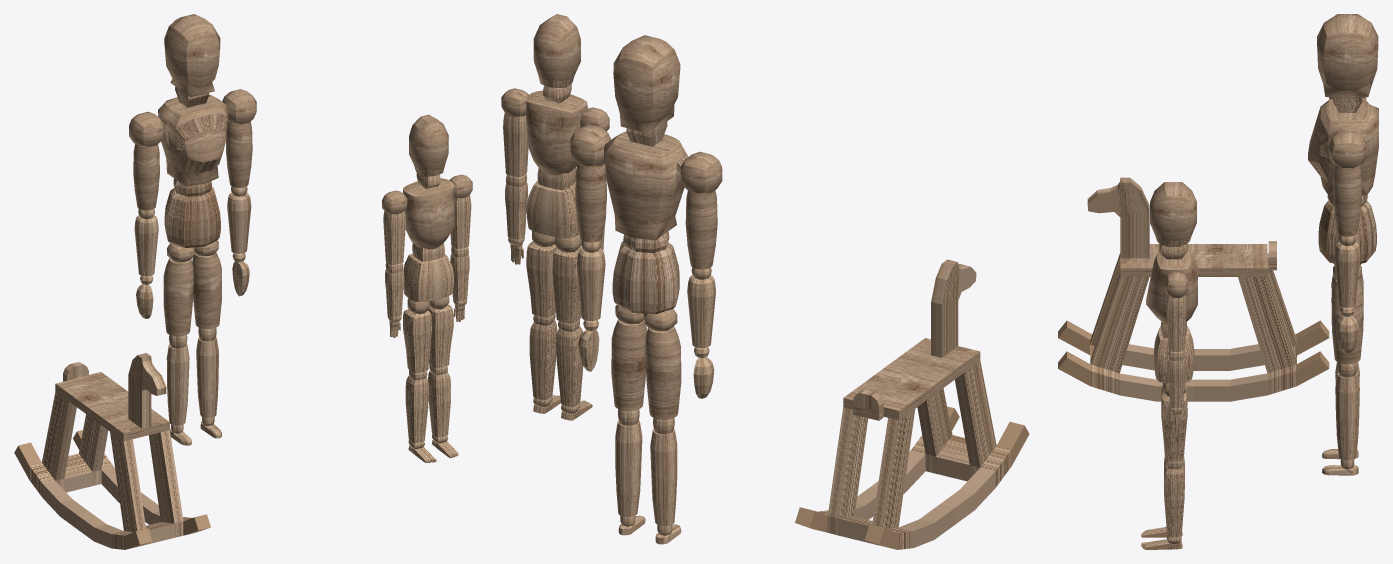
The picture shows the model from 3 angles, left to right: view 1: azimuth 30°, elevation 25°; view 2: azimuth 150°, elevation 25°; view 3: azimuth 270°, elevation 25°; orthographic projection. The views are drawn at different scales.
Visible parts, largest first — view 1: Box003, Box005, Box001; view 2: Box003, Box001, Box005; view 3: Box001, Box003, Box005.
Part boxes in pixels (left/top/right/bottom): Box003: left=129, top=14, right=256, bottom=445; Box005: left=382, top=114, right=472, bottom=462; Box001: left=14, top=353, right=210, bottom=549; Box003: left=570, top=35, right=722, bottom=544; Box001: left=795, top=259, right=1029, bottom=549; Box005: left=501, top=14, right=609, bottom=420; Box001: left=1058, top=177, right=1329, bottom=401; Box003: left=1308, top=14, right=1378, bottom=475; Box005: left=1141, top=182, right=1197, bottom=549.
Bounding box in the file's own units: 120 × 123 × 80.18.
Materials: 2 (2 with a texture image).
